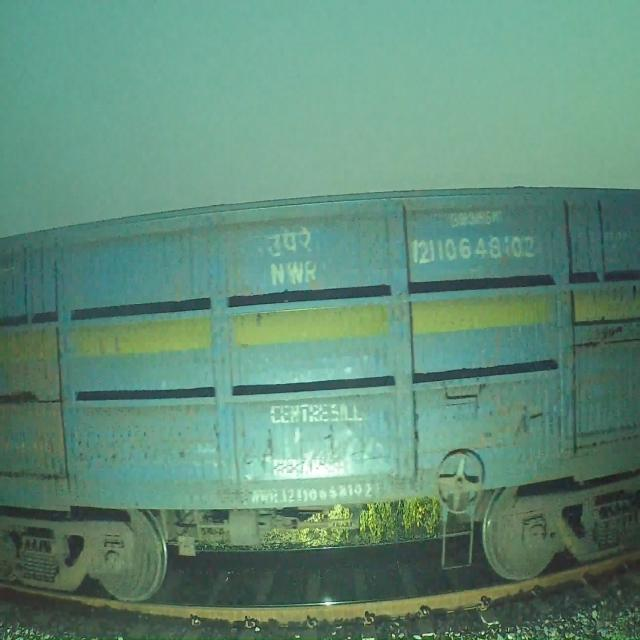WAgon-uic: (0, 176, 640, 610)
uic: (409, 229, 553, 277)
